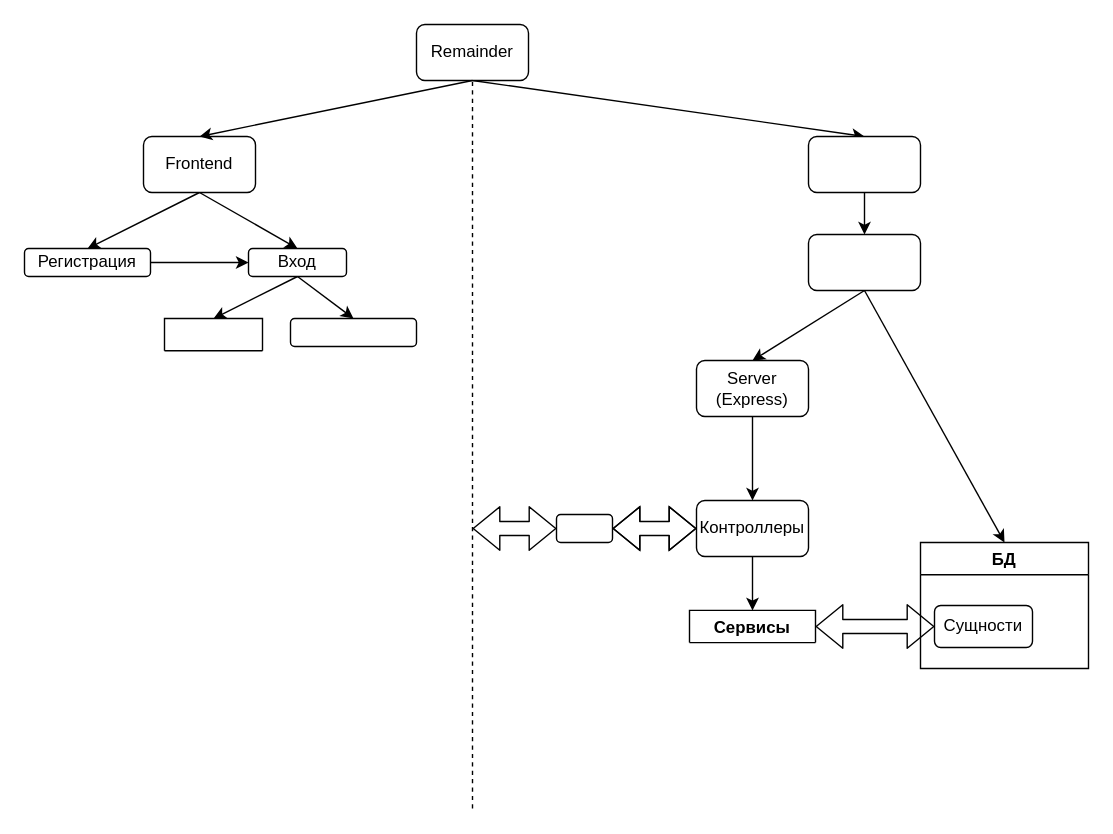
The diagram is 1113 pixels wide and 834 high, and some of its shapes have lost their labels. The box of each missing label's shape, as (x1, y1, x2, y2) in pixels:
Backend: (807, 135, 920, 192)
DTO: (555, 513, 612, 542)
Host: (807, 233, 920, 290)
ЛК/Настройки: (289, 317, 416, 346)
Работа: (163, 317, 262, 351)
